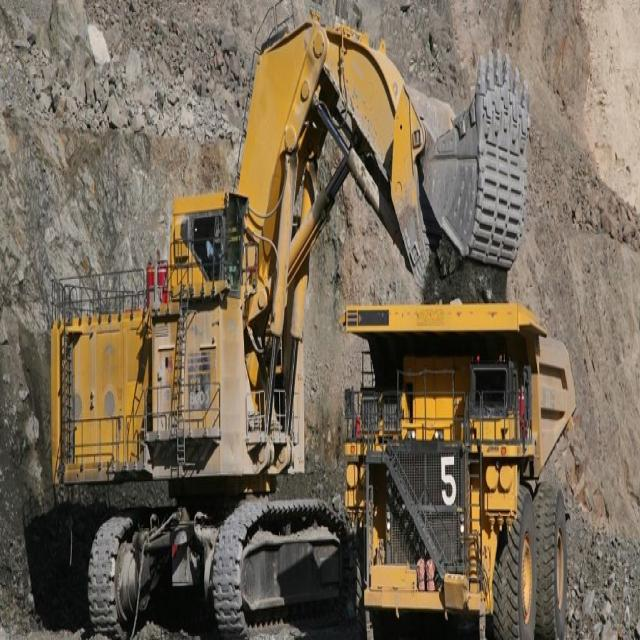dump_truck: (334, 290, 580, 638)
excavator: (33, 13, 527, 632)
